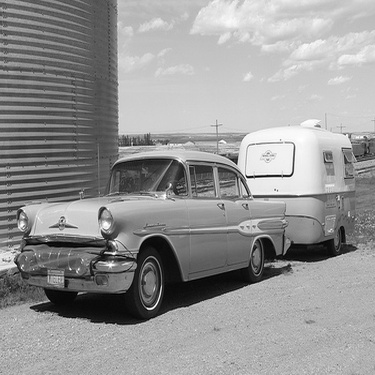car: (11, 138, 294, 324)
